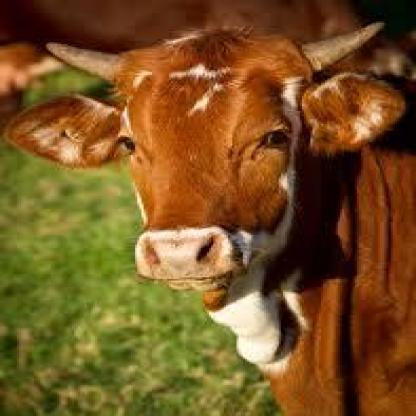cow: (6, 21, 416, 416)
